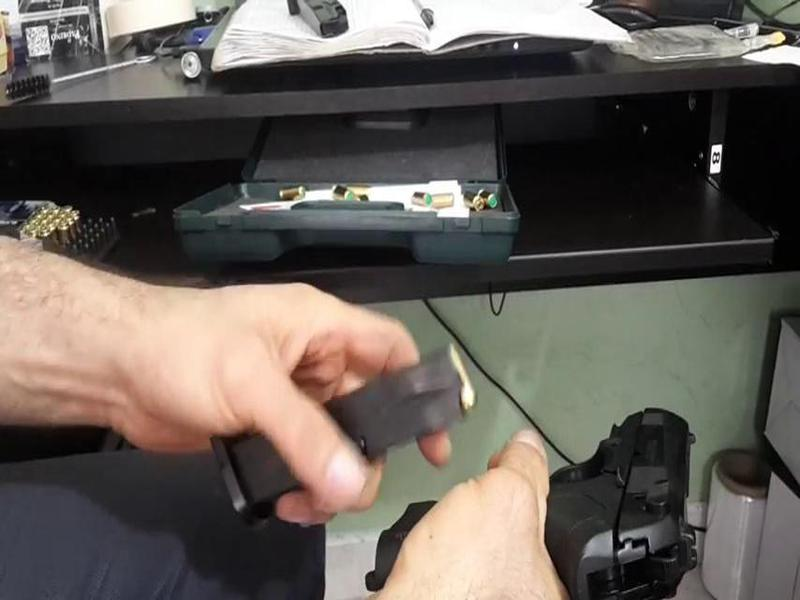Pistola: (522, 376, 714, 600)
